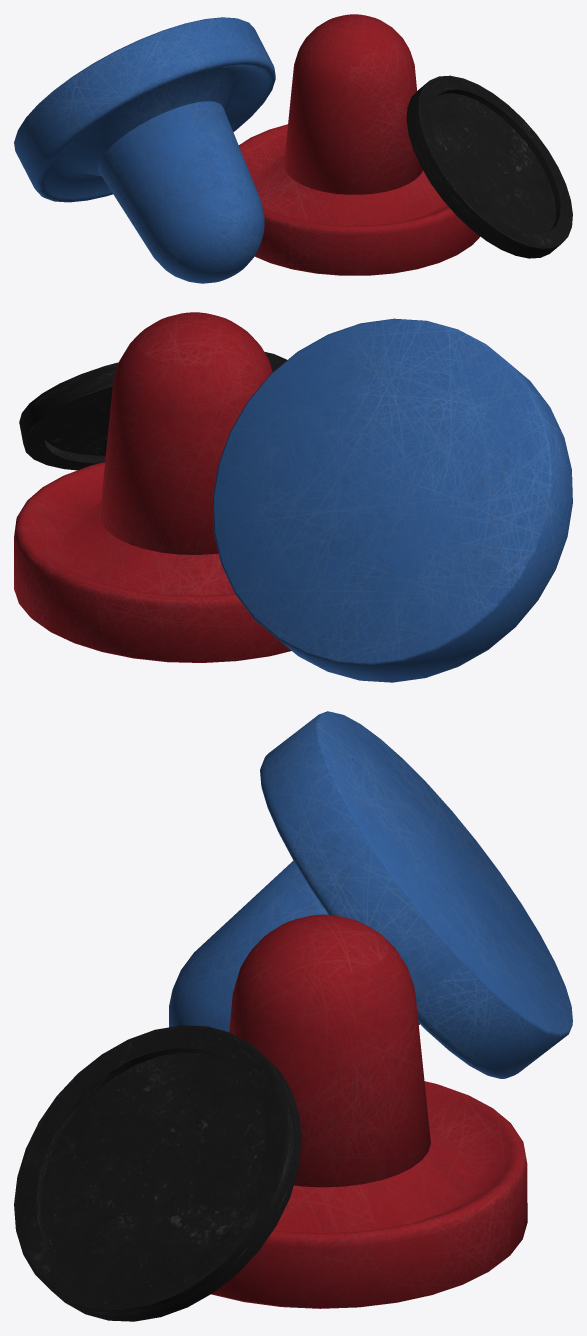
The picture shows the model from 3 angles, top to bottom: view 1: azimuth 30°, elevation 25°; view 2: azimuth 150°, elevation 25°; view 3: azimuth 270°, elevation 25°; orthographic projection. The views are drawn at different scales.
Visible parts, largest first — view 1: RED STRIKER, PUCK, Cylinder; view 2: RED STRIKER, PUCK, Cylinder; view 3: PUCK, RED STRIKER, Cylinder.
Boxes of the visible parts, x1,y1,x2,y2 form: RED STRIKER: (14,17,275,283); PUCK: (239,14,480,275); Cylinder: (406,75,572,258); RED STRIKER: (212,318,572,682); PUCK: (14,312,291,662); Cylinder: (19,352,286,470); PUCK: (211,914,527,1308); RED STRIKER: (169,711,572,1078); Cylinder: (14,1025,301,1321).
Size of the model in its own units: 344 by 172 by 240.
3 materials, 3 textured.
